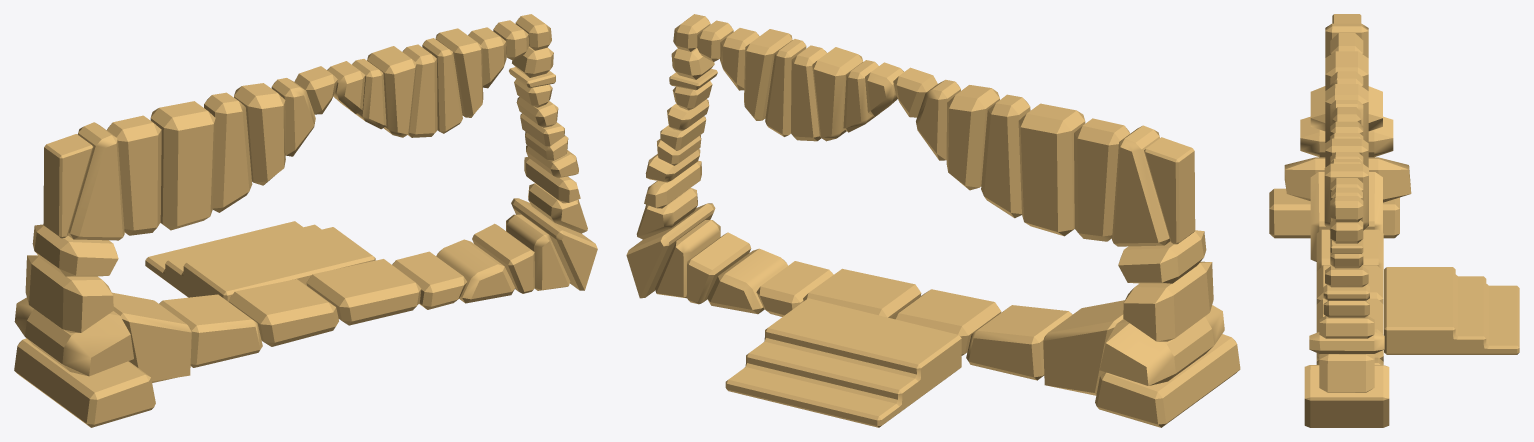
Rendered from StoneGate_no UV.fbx.
The picture shows the model from 3 angles, left to right: view 1: azimuth 30°, elevation 25°; view 2: azimuth 150°, elevation 25°; view 3: azimuth 270°, elevation 25°; orthographic projection. The views are drawn at different scales.
Parts seen in each view (by area): view 1: pCube168, pCube148, pCube169, pCube172, pCube154, pCube149, pCube171, pCube155, pCube150, pCube170, pCube153, pCube147 (+27 smaller); view 2: pCube168, pCube148, pCube169, pCube154, pCube149, pCube155, pCube170, pCube150, pCube153, pCube147, pCube146, pCube151 (+27 smaller); view 3: pCube168, pCube124, pCube169, pCube154, pCube123, pCube155, pCube153, pCube170, pCube138, pCube127, pCube152, pCube128 (+21 smaller).
Part boxes in pixels (bbox=[...]): pCube168: bbox=[145, 221, 375, 301]; pCube148: bbox=[150, 101, 215, 230]; pCube169: bbox=[14, 338, 155, 427]; pCube172: bbox=[306, 259, 421, 325]; pCube154: bbox=[14, 297, 133, 376]; pCube149: bbox=[107, 115, 161, 235]; pCube171: bbox=[228, 279, 338, 346]; pCube155: bbox=[112, 292, 191, 382]; pCube150: bbox=[68, 122, 124, 240]; pCube170: bbox=[159, 294, 262, 367]; pCube153: bbox=[25, 255, 113, 332]; pCube147: bbox=[204, 92, 252, 212]; pCube168: bbox=[725, 298, 961, 427]; pCube148: bbox=[1018, 103, 1085, 236]; pCube169: bbox=[1095, 334, 1240, 427]; pCube154: bbox=[1099, 305, 1224, 385]; pCube149: bbox=[1074, 118, 1129, 241]; pCube155: bbox=[1043, 300, 1124, 395]; pCube170: bbox=[966, 305, 1072, 380]; pCube150: bbox=[1112, 125, 1170, 246]; pCube153: bbox=[1123, 261, 1213, 341]; pCube147: bbox=[981, 94, 1030, 218]; pCube146: bbox=[946, 85, 999, 190]; pCube151: bbox=[1144, 137, 1195, 244]; pCube168: bbox=[1384, 267, 1519, 354]; pCube124: bbox=[1304, 365, 1389, 427]; pCube169: bbox=[1269, 188, 1399, 238]; pCube154: bbox=[1284, 157, 1411, 202]; pCube123: bbox=[1319, 354, 1374, 392]; pCube155: bbox=[1310, 172, 1382, 261]; pCube153: bbox=[1300, 116, 1393, 157]; pCube170: bbox=[1316, 229, 1383, 271]; pCube138: bbox=[1324, 163, 1368, 230]; pCube127: bbox=[1309, 332, 1384, 353]; pCube152: bbox=[1310, 86, 1382, 131]; pCube128: bbox=[1319, 316, 1374, 338].
Size of the model in its own units: 37.11 by 17.44 by 18.04.
